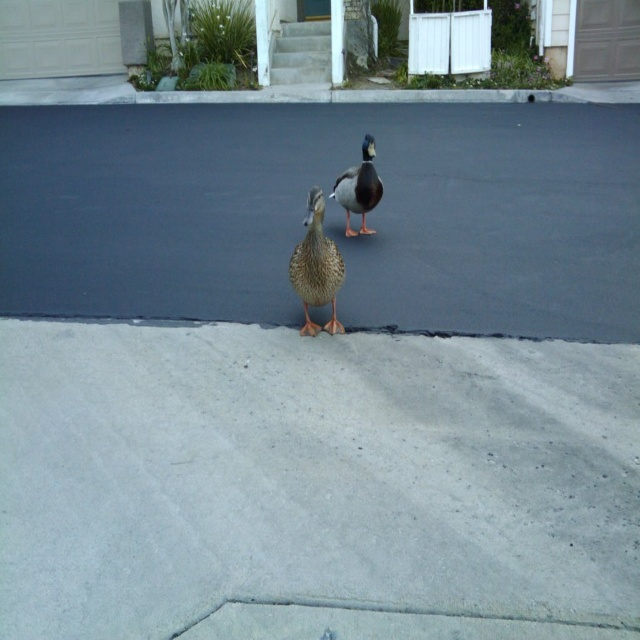Duck: (286, 188, 356, 334), (323, 127, 384, 234)
